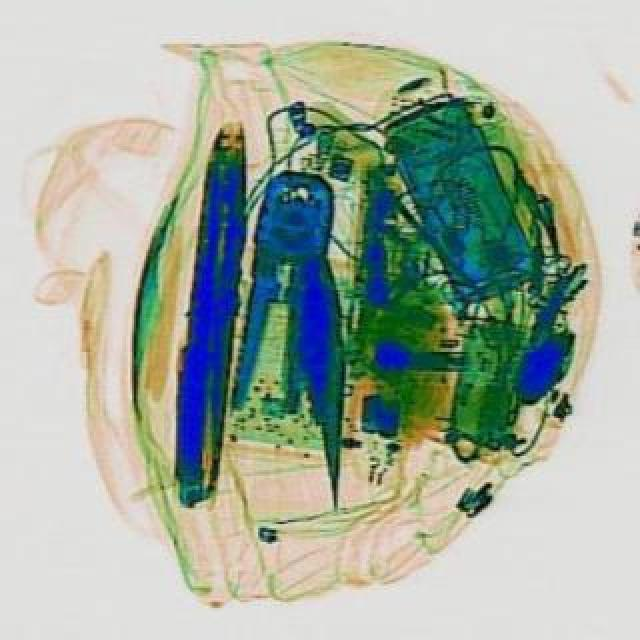wrench: (218, 170, 364, 514)
